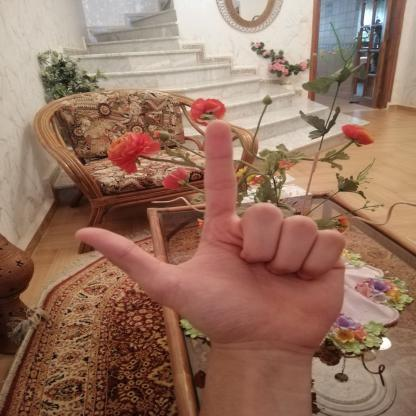LAAM: (56, 106, 366, 361)
